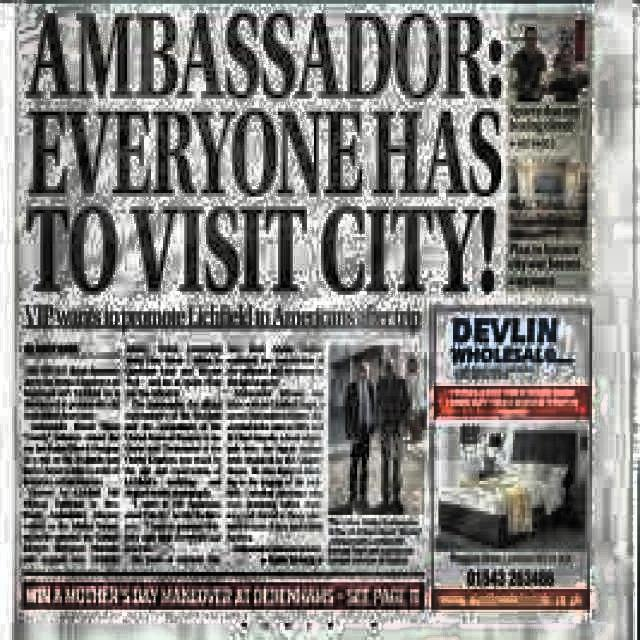Paper: (15, 0, 638, 637)
